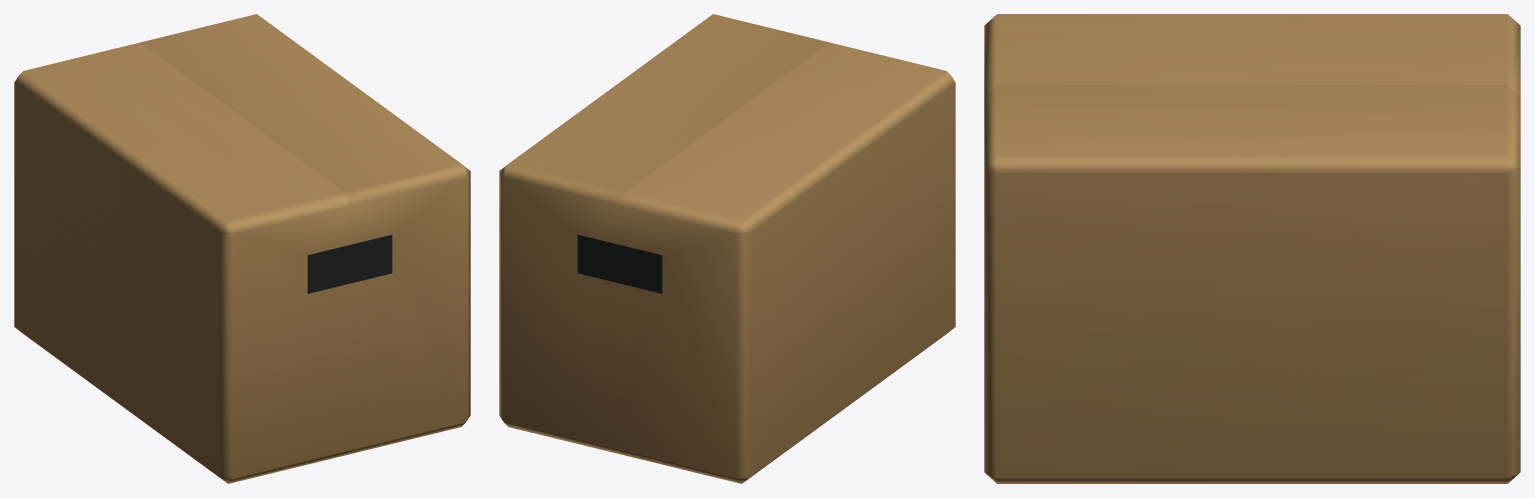
File: box_cardboard_large_rectangle_closed_handle.fbx
3 views of the same model, side by side, from view 1: azimuth 30°, elevation 25°; view 2: azimuth 150°, elevation 25°; view 3: azimuth 270°, elevation 25° (orthographic). The views are drawn at different scales.
Parts seen in each view (by area): view 1: box_cardboard_large_rectangle_closed_handle; view 2: box_cardboard_large_rectangle_closed_handle; view 3: box_cardboard_large_rectangle_closed_handle.
Part boxes in pixels (x1,y1,x2,y2): box_cardboard_large_rectangle_closed_handle: (14, 14, 470, 483); box_cardboard_large_rectangle_closed_handle: (499, 14, 955, 483); box_cardboard_large_rectangle_closed_handle: (984, 14, 1520, 483).
Size of the model in its own units: 104 by 104 by 154.
